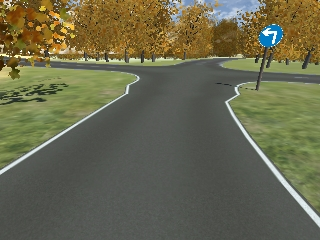left: (257, 23, 284, 47)
